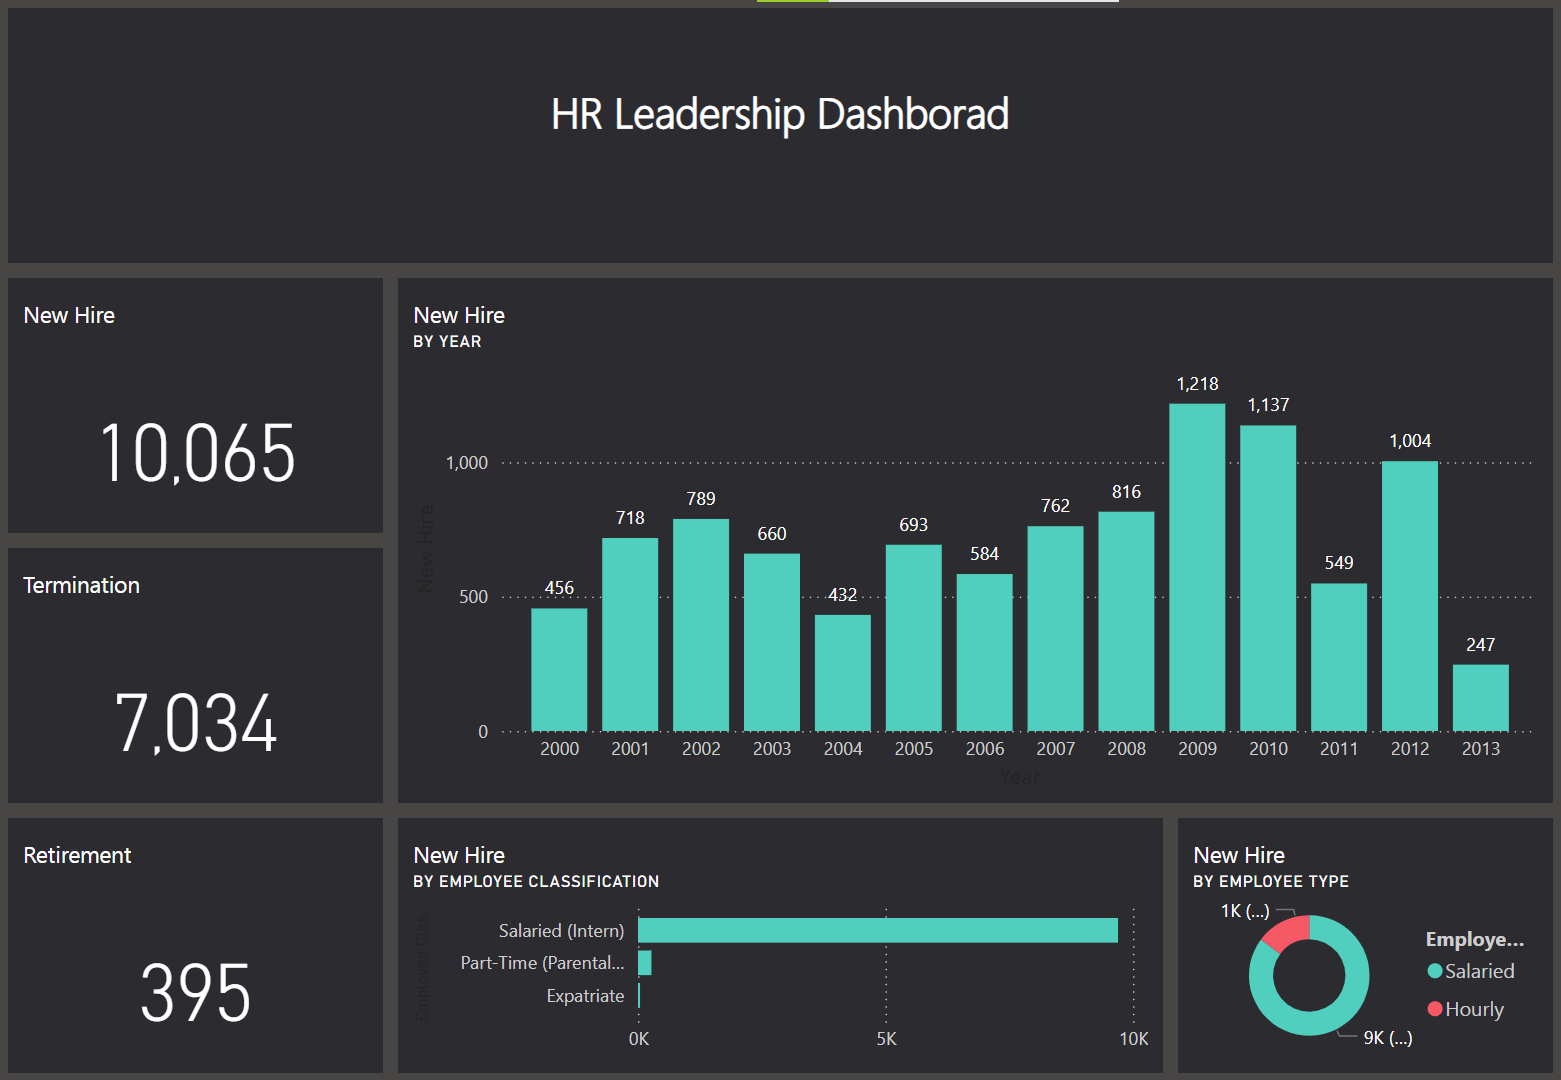

Layout of this report page (visuals, bound fields, positions):
{"tool":"powerbi","page":{"name":"Summary","canvas":[1280,720],"ordinal":0},"visuals":[{"type":"card","fields":{"Values":["Key Calculation.New Hire"]},"box":[14.4,122.2,205,116.7],"z":0},{"type":"slicer","fields":{"Values":["Final_Job.Action"]},"box":[1051.7,123.3,228.3,145],"z":1000},{"type":"slicer","fields":{"Values":["Final_Job.Employee Classification"]},"box":[1051.7,268.3,228.3,238.3],"z":2000},{"type":"slicer","fields":{"Values":["Final_Job.Employee Type"]},"box":[1051.7,506.7,228.3,106.7],"z":3000},{"type":"slicer","fields":{"Values":["Final_Job.Full/Part Time"]},"box":[1051.7,613.3,228.3,106.7],"z":4000},{"type":"slicer","fields":{"Values":["Final_Job.Effective Date.Variation.Date Hierarchy.Year"]},"box":[268.9,0,996.7,85],"z":5000},{"type":"textbox","box":[6.7,21.7,256.7,50],"z":6000},{"type":"shape","box":[1.7,88.3,1032.8,13.3],"z":7000},{"type":"shape","box":[1028.3,93.3,13.3,625],"z":8000},{"type":"card","fields":{"Values":["Key Calculation.Termination"]},"box":[253.3,123.3,205,116.7],"z":9000},{"type":"card","fields":{"Values":["Key Calculation.Retirement"]},"box":[488.3,122.8,205,116.7],"z":10000},{"type":"clusteredColumnChart","fields":{"Y":["Key Calculation.New Hire"],"Category":["Final_Job.Effective Date.Variation.Date Hierarchy.Year"]},"box":[14.4,256.1,679.4,218.3],"z":11000},{"type":"donutChart","fields":{"Y":["Key Calculation.New Hire"],"Category":["Final_Job.Employee Type"]},"box":[16.7,486.7,472.2,218.3],"z":12000},{"type":"areaChart","fields":{"Y":["Key Calculation.New Hire"],"Category":["Final_Job.Employee Classification"]},"box":[506.7,488.3,513.9,216.7],"z":13000},{"type":"tableEx","fields":{"Values":["Final_Job.Effective Date.Variation.Date Hierarchy.Year","Key Calculation.New Hire","Key Calculation.Termination","Key Calculation.Retirement"]},"box":[710,123.3,310,351.7],"z":14000}]}

Visuals, with their boxes on the page's 1280x720 design canvas (x1, y1, x2, y2). These are canvas units, not pixel positions in the 1561x1080 screenshot, which may show the page scaled, cropped or inside an application window:
card - Key Calculation.New Hire: bbox=[14, 122, 219, 239]
slicer - Final_Job.Action: bbox=[1052, 123, 1280, 268]
slicer - Final_Job.Employee Classification: bbox=[1052, 268, 1280, 507]
slicer - Final_Job.Employee Type: bbox=[1052, 507, 1280, 613]
slicer - Final_Job.Full/Part Time: bbox=[1052, 613, 1280, 720]
slicer - Final_Job.Effective Date.Variation.Date Hierarchy.Year: bbox=[269, 0, 1266, 85]
textbox: bbox=[7, 22, 263, 72]
shape: bbox=[2, 88, 1034, 102]
shape: bbox=[1028, 93, 1042, 718]
card - Key Calculation.Termination: bbox=[253, 123, 458, 240]
card - Key Calculation.Retirement: bbox=[488, 123, 693, 240]
clusteredColumnChart - Key Calculation.New Hire x Final_Job.Effective Date.Variation.Date Hierarchy.Year: bbox=[14, 256, 694, 474]
donutChart - Key Calculation.New Hire x Final_Job.Employee Type: bbox=[17, 487, 489, 705]
areaChart - Key Calculation.New Hire x Final_Job.Employee Classification: bbox=[507, 488, 1021, 705]
tableEx - Final_Job.Effective Date.Variation.Date Hierarchy.Year x Key Calculation.New Hire: bbox=[710, 123, 1020, 475]
